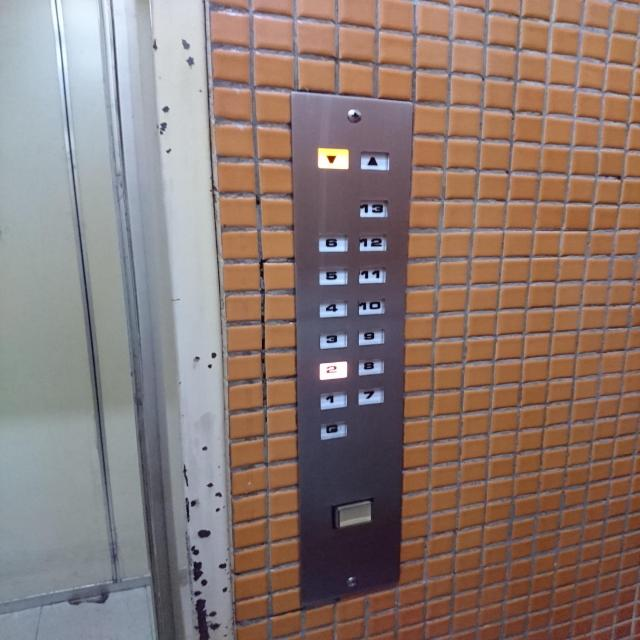1: (318, 390, 348, 410)
10: (357, 296, 386, 316)
11: (357, 266, 387, 284)
12: (358, 232, 388, 252)
13: (358, 198, 390, 218)
2: (318, 359, 349, 381)
3: (318, 330, 348, 349)
4: (317, 299, 348, 318)
5: (317, 266, 348, 286)
6: (317, 232, 349, 253)
7: (356, 386, 385, 406)
8: (356, 356, 385, 377)
9: (356, 327, 386, 346)
G: (319, 419, 348, 442)
down: (317, 147, 349, 169)
empty: (330, 497, 374, 529)
up: (360, 150, 389, 170)
